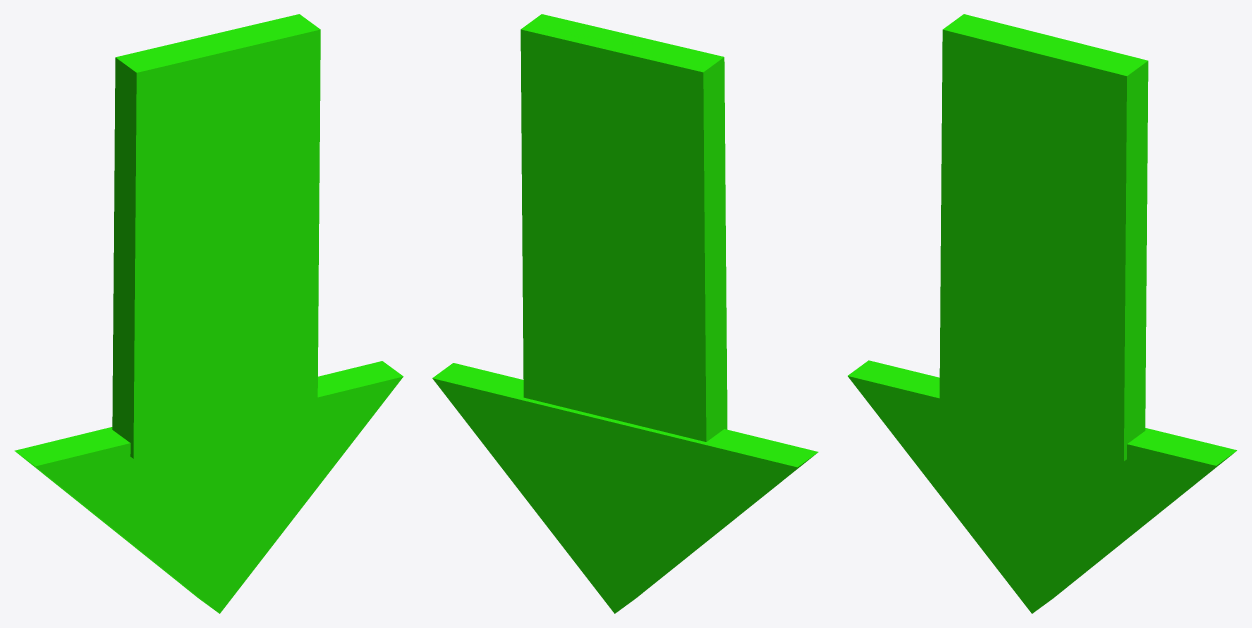
The model's file is arrow.fbx.
The picture shows the model from 3 angles, left to right: view 1: azimuth 30°, elevation 25°; view 2: azimuth 150°, elevation 25°; view 3: azimuth 330°, elevation 25°; orthographic projection.
Visible parts, largest first — view 1: Box, Box1; view 2: Box, Box1; view 3: Box, Box1.
Part boxes in pixels (bbox=[...]): Box: bbox=[112, 14, 320, 458]; Box1: bbox=[14, 361, 403, 613]; Box: bbox=[520, 14, 727, 441]; Box1: bbox=[432, 363, 818, 613]; Box: bbox=[939, 14, 1148, 461]; Box1: bbox=[848, 360, 1236, 613].
Size of the model in its own units: 1 by 1.47 by 0.1144.
